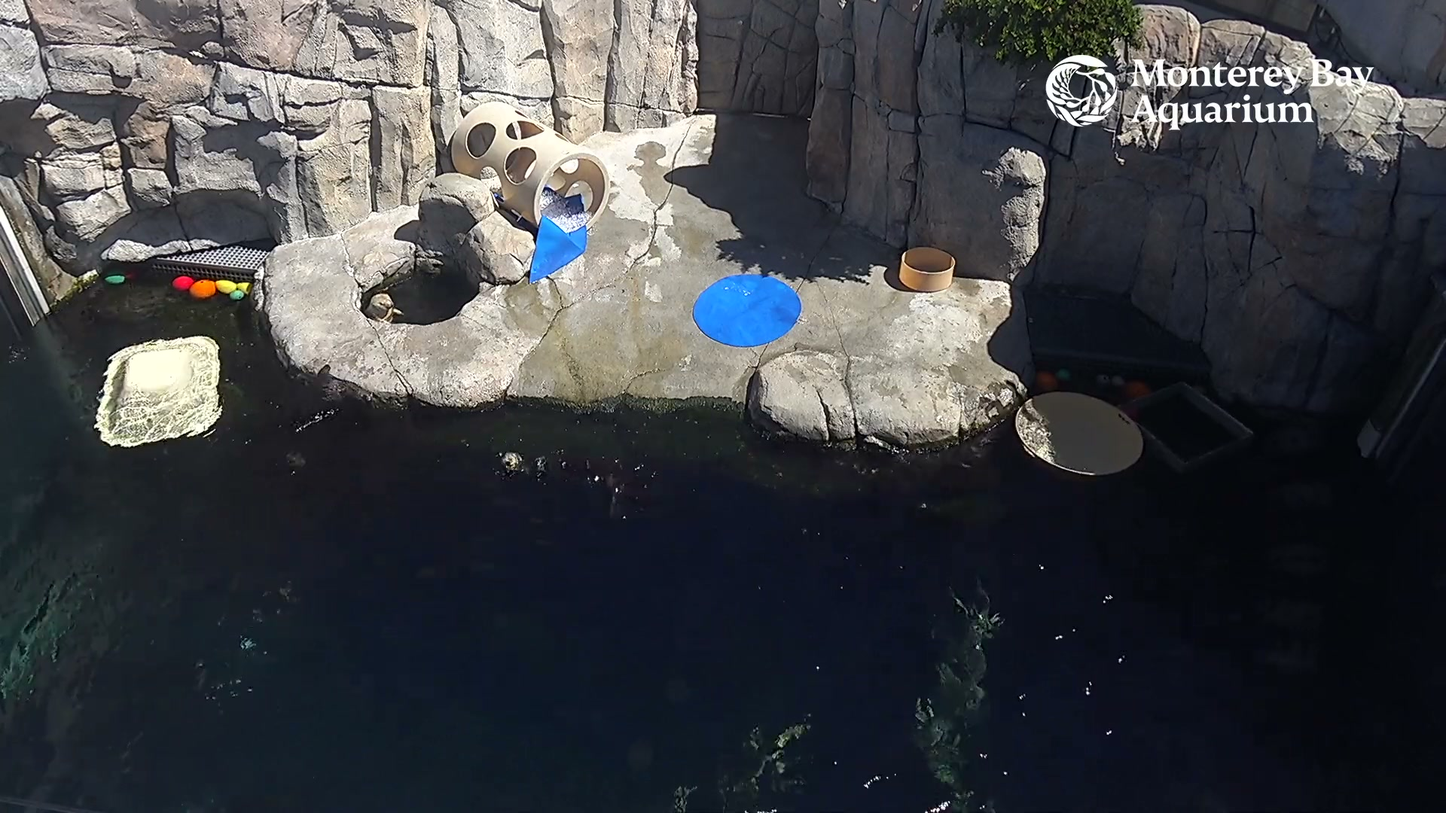Southern Sea Otter: (473, 419, 651, 510), (361, 288, 409, 325)
